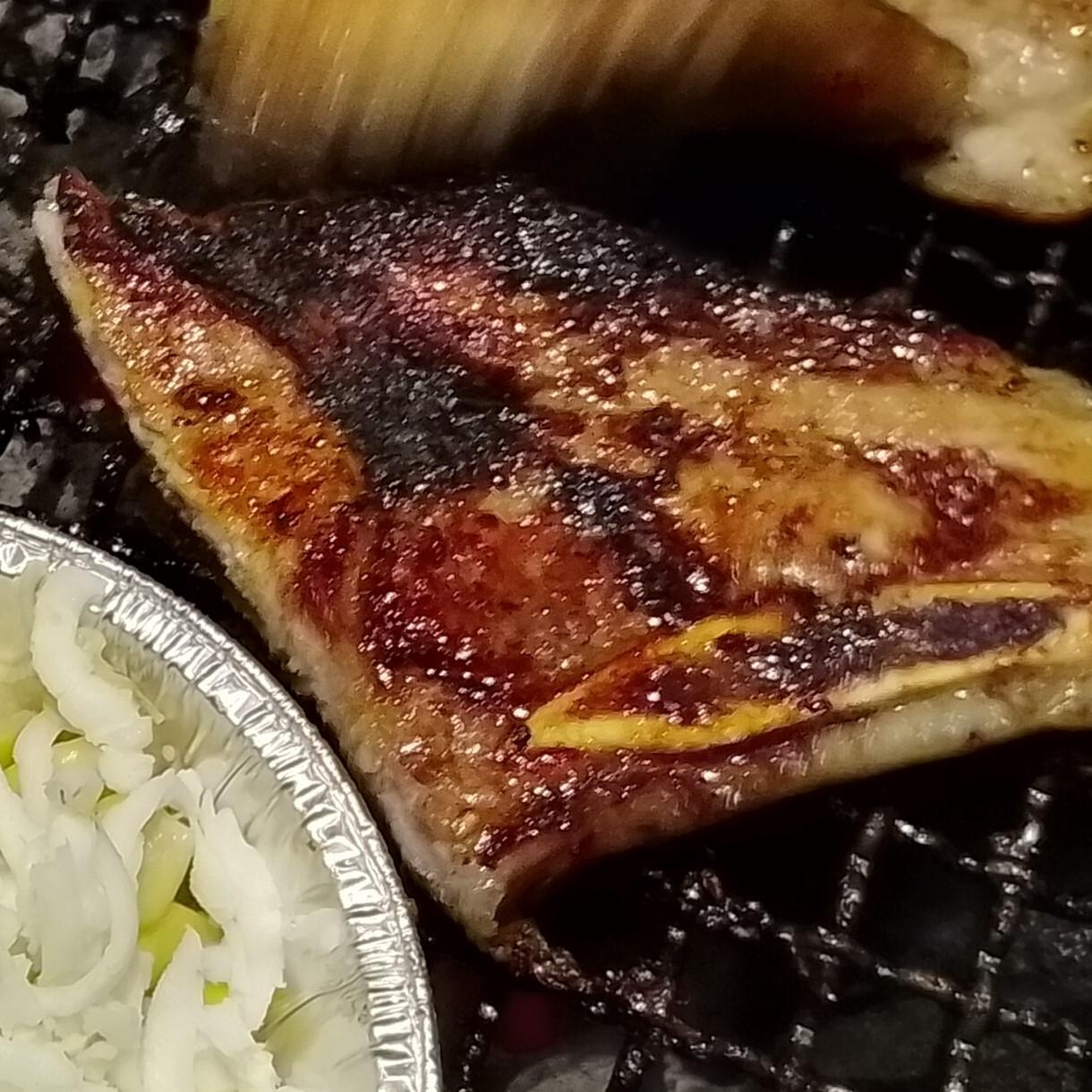Overcooked: (34, 171, 1091, 987)
